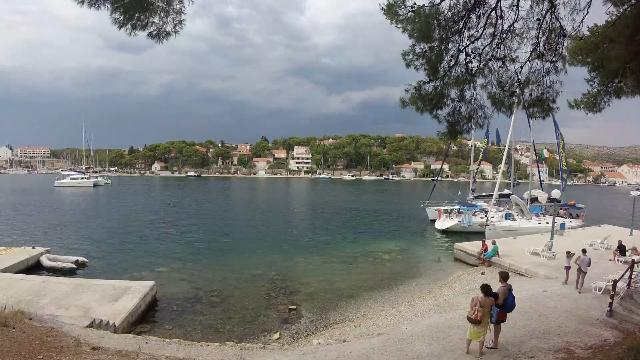Freighter: (59, 159, 123, 179)
Sailboat: (52, 172, 104, 190)
